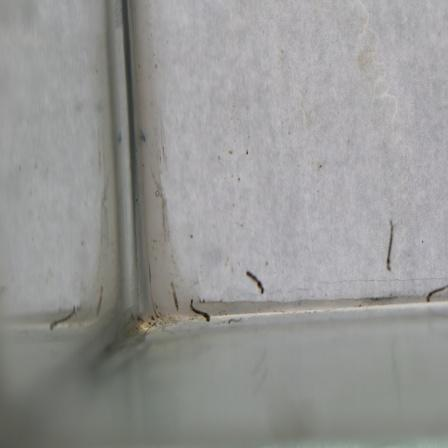Jentik-Nyamuk: (384, 215, 399, 274), (186, 297, 214, 325), (246, 269, 267, 297)
